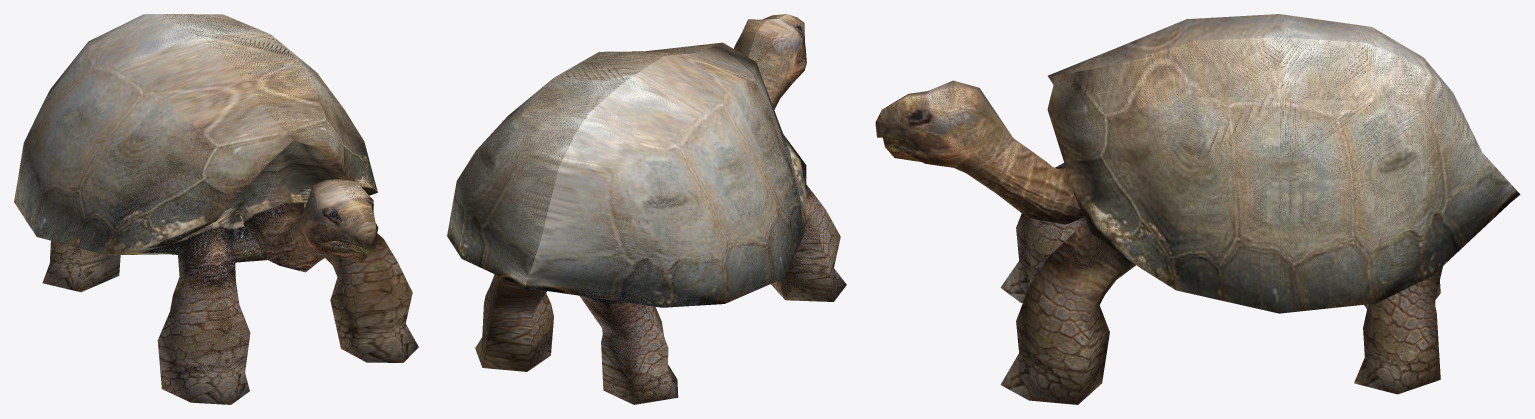
File: turtle.dae
The picture shows the model from 3 angles, left to right: view 1: azimuth 30°, elevation 25°; view 2: azimuth 150°, elevation 25°; view 3: azimuth 270°, elevation 25°; orthographic projection. The views are drawn at different scales.
Visible parts, largest first — view 1: GalapagosTortoise (×2); view 2: GalapagosTortoise (×2); view 3: GalapagosTortoise (×2).
Part boxes in pixels (x1,y1,x2,y2): GalapagosTortoise (×2): (14, 14, 418, 404); GalapagosTortoise (×2): (447, 14, 846, 404); GalapagosTortoise (×2): (875, 14, 1520, 404).
Size of the model in its own units: 38.02 by 57.55 by 29.48.
Materials: 3 (1 with a texture image).
